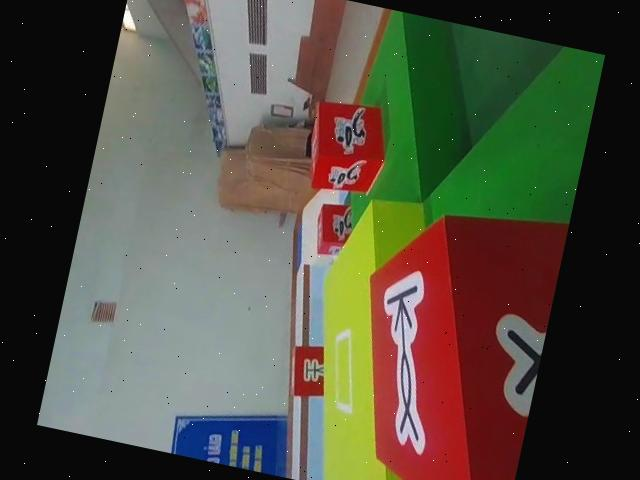R1: (297, 94, 393, 202), (306, 198, 358, 262)
R2 Real: (324, 187, 568, 480)
